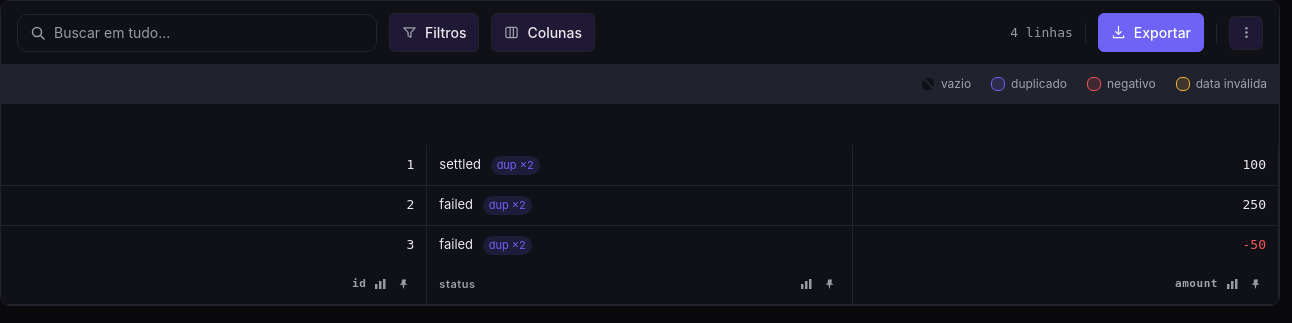
Test: viewer.vue — testes de integração cross-cutting (cell-editing, T10) › RF-13: confirmar uma edição que muda a posição relativa da linha sob ordenação ativa reposiciona a linha imediatamente
This screenshot has width=1292, height=323.
Ordena por "amount" (clique simples no cabeçalho, sem Shift) — ascendente.
Click the button "amount". click: (1196, 283)
box: [865,276,1218,292]
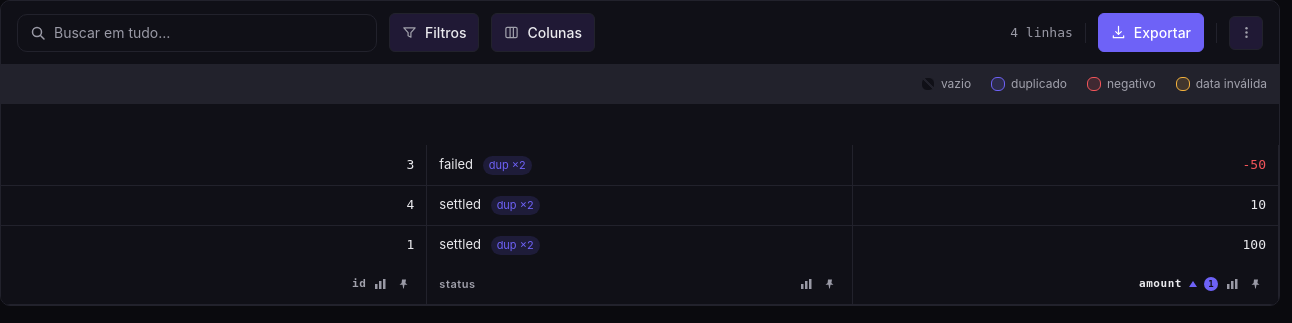
Result: the row "3 failed dup ×2 -50" is shown at [1,145,1279,186]
Result: the row "4 settled dup ×2 10" is shown at [1,185,1279,226]
Result: the row "1 settled dup ×2 100" is shown at [1,225,1279,266]
Double-click the cell with class "csv-cell" showing "10" at (1066, 205), box [853,185,1278,225]
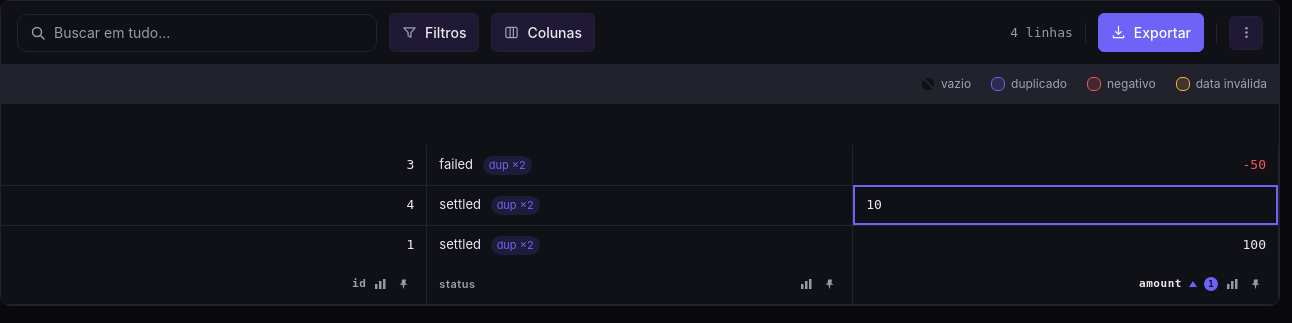
Replace the text in the field with class "csv-cell__input" with "5000". click: (1066, 205)
box: [853,185,1278,224]
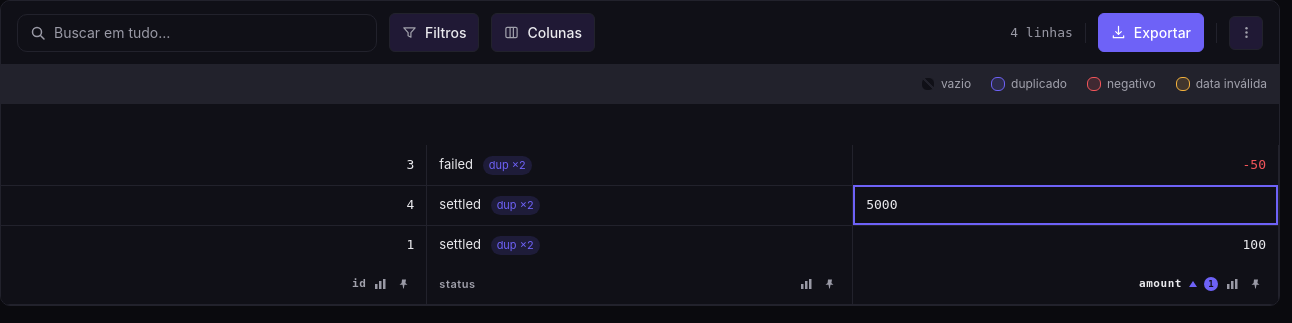
Press Enter in the field with class "csv-cell__input", box [853,185,1278,224]
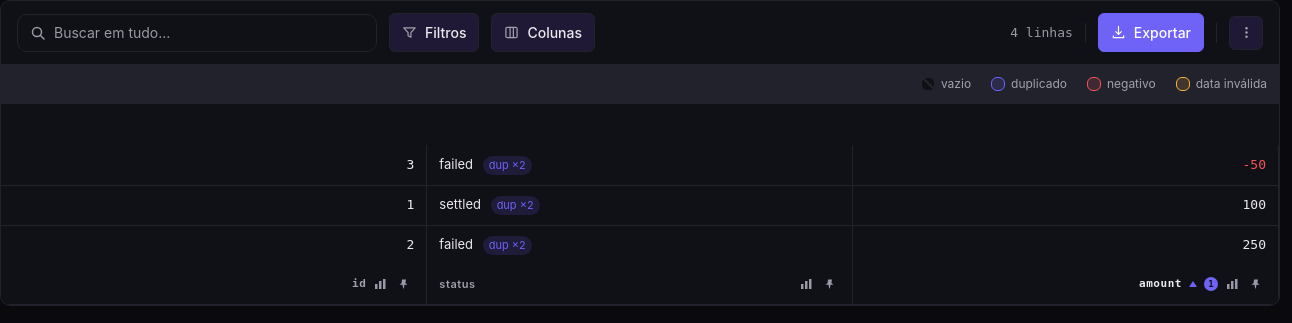
Result: the row "3 failed dup ×2 -50" is shown at [1,145,1279,186]
Result: the row "1 settled dup ×2 100" is shown at [1,185,1279,226]
Result: the row "2 failed dup ×2 250" is shown at [1,225,1279,266]
